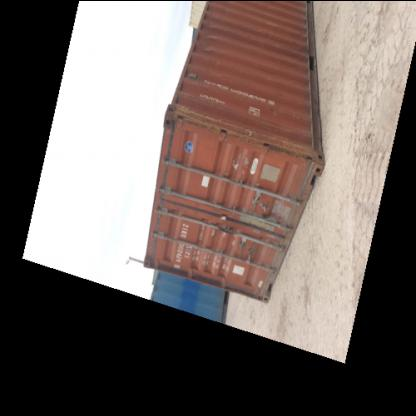Damage: (168, 105, 222, 134), (261, 134, 312, 158), (260, 100, 304, 126), (200, 11, 219, 57), (228, 148, 252, 176), (180, 246, 216, 264), (232, 212, 261, 231), (264, 200, 290, 218)
